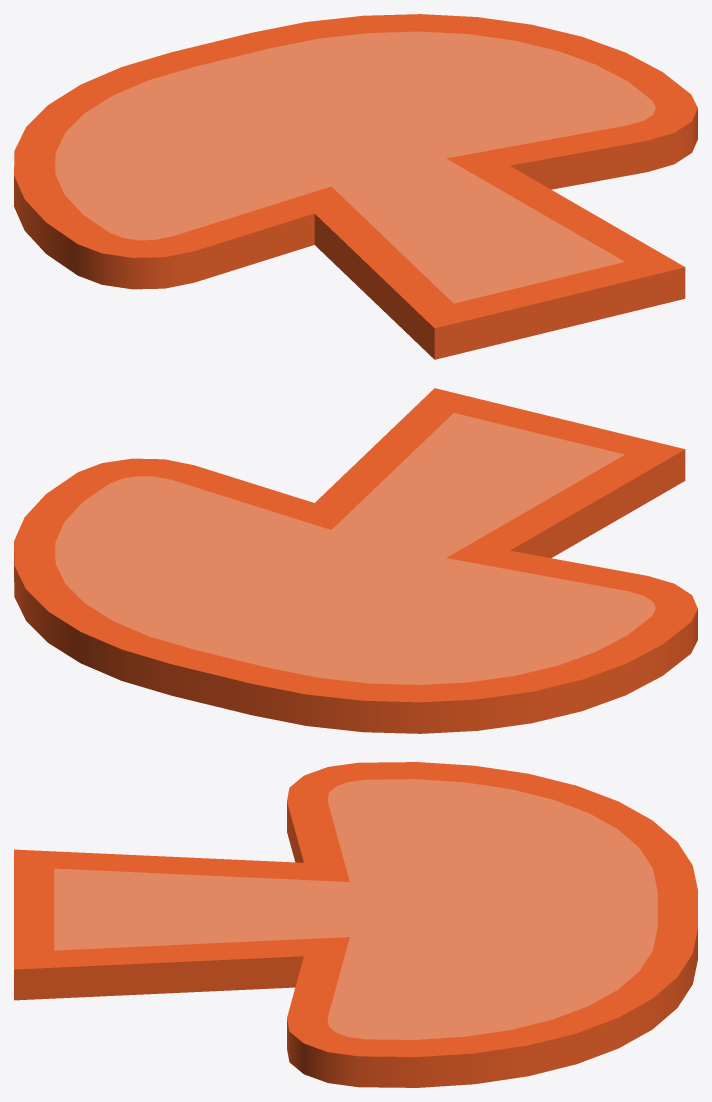
File: Mushroom Slice B.fbx
The picture shows the model from 3 angles, top to bottom: view 1: azimuth 30°, elevation 25°; view 2: azimuth 150°, elevation 25°; view 3: azimuth 270°, elevation 25°; orthographic projection.
Visible parts, largest first — view 1: Mushroom Slice B; view 2: Mushroom Slice B; view 3: Mushroom Slice B.
Boxes of the visible parts, x1,y1,x2,y2 form: Mushroom Slice B: (14,14,697,359); Mushroom Slice B: (14,388,697,733); Mushroom Slice B: (14,762,697,1087).
Bounding box in the file's own units: 0.2041 × 0.00996 × 0.2.
